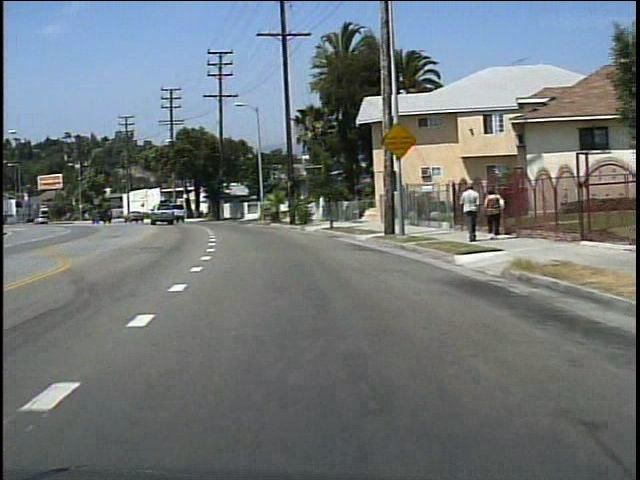person: (479, 187, 505, 243), (457, 179, 479, 243)
